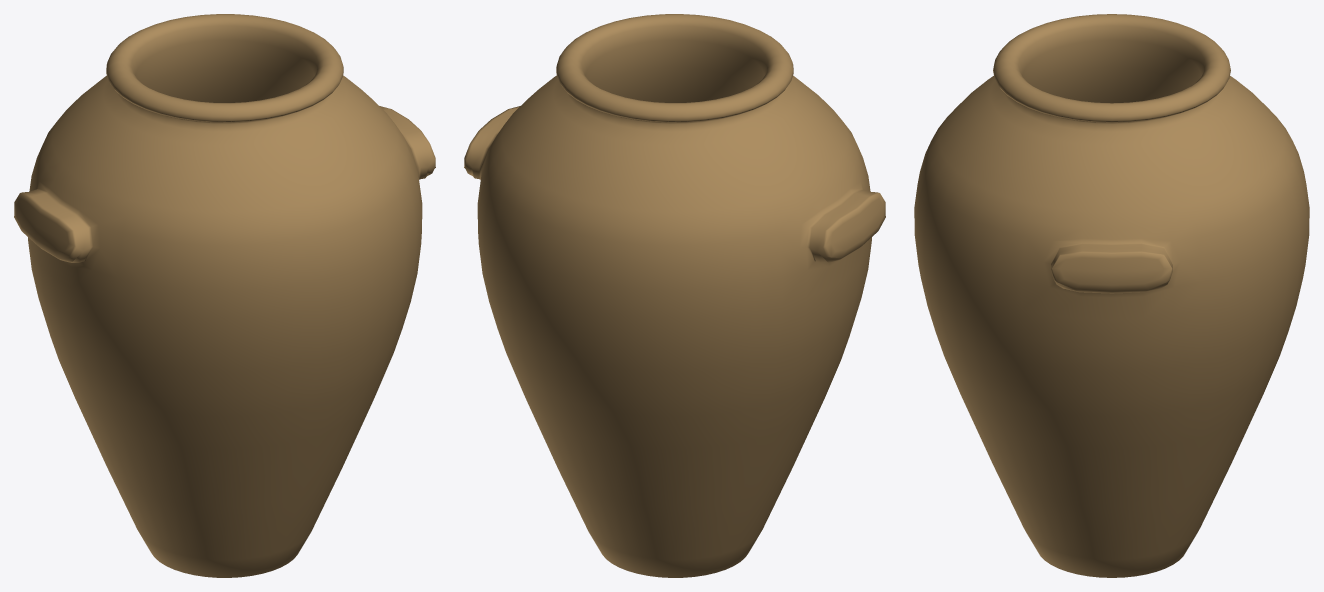
File: Vase_Large.fbx
3 views of the same model, side by side, from view 1: azimuth 30°, elevation 25°; view 2: azimuth 150°, elevation 25°; view 3: azimuth 270°, elevation 25° (orthographic).
Visible parts, largest first — view 1: VaseLarge; view 2: VaseLarge; view 3: VaseLarge.
Part boxes in pixels (x1,y1,x2,y2): VaseLarge: (14,14,435,577); VaseLarge: (464,14,885,577); VaseLarge: (914,14,1309,577).
Size of the model in its own units: 41.3 by 50.93 by 37.28.
